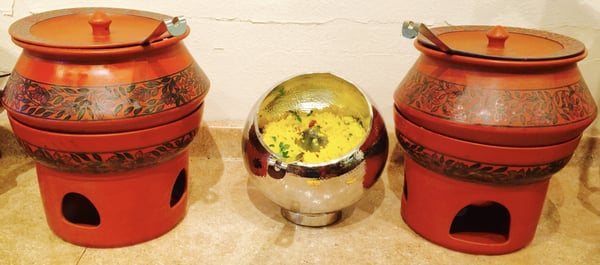pizza: (1, 9, 211, 247), (240, 71, 389, 226)
